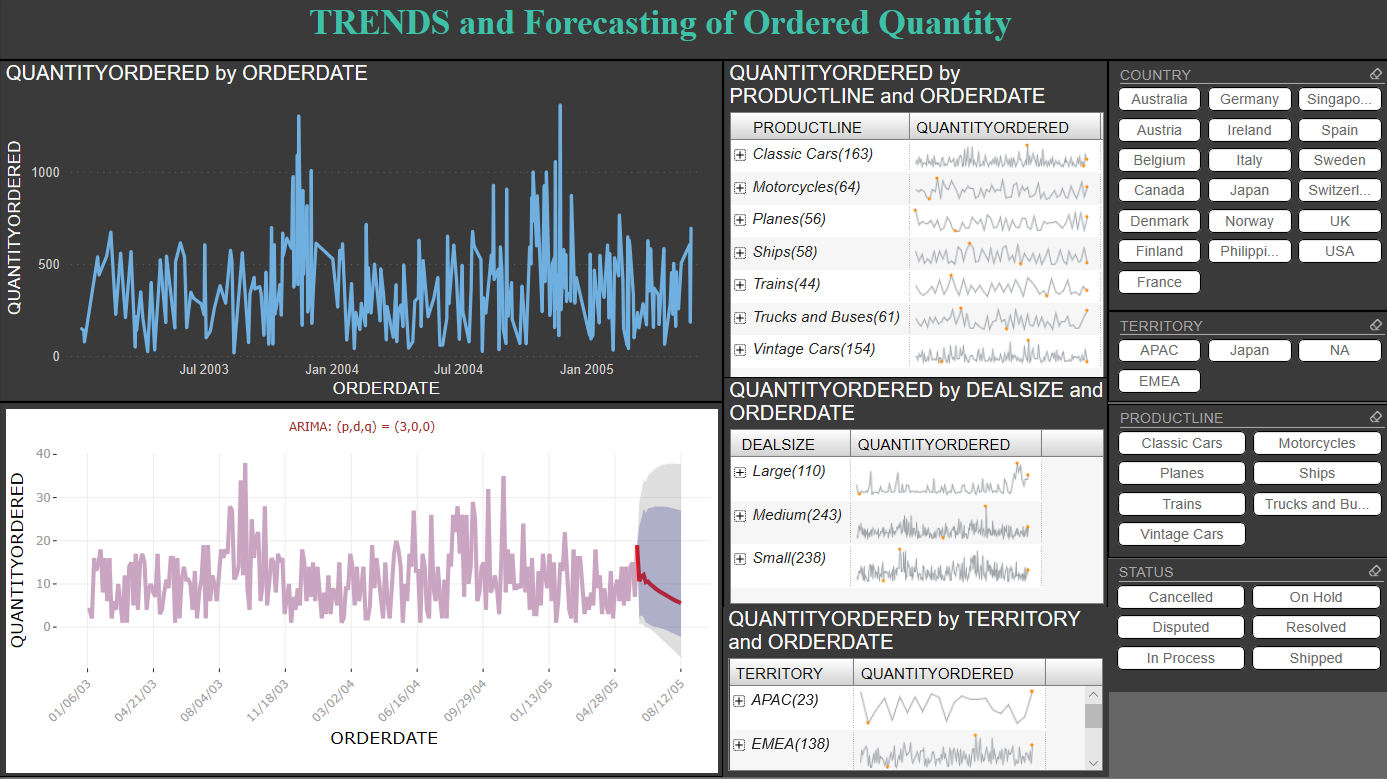

The page's visual inventory and layout, read from the dashboard file:
{"tool":"powerbi","page":{"name":"P3","canvas":[1280,720],"ordinal":2},"visuals":[{"type":"lineChart","fields":{"Y":["Sum(sales_data_sample (2).QUANTITYORDERED)"],"Category":["sales_data_sample (2).ORDERDATE"]},"box":[0,58.9,666,315.2],"z":0},{"type":"PBI_CV_AD348DC9_41C4_4867_B19O_53F9RDC6IEAS_HTML","fields":{"Date":["S2.ORDERDATE"],"Value":["CountNonNull(S2.QUANTITYORDERED)"]},"box":[0,374.1,666,345.4],"z":1000},{"type":"textbox","box":[0,0,1280,58.9],"z":2000},{"type":"vitarachartsMicrochart0A1B0D2B8A234CE5923234CD03573361","fields":{"category":["S2.PRODUCTLINE"],"measure":["Sum(S2.QUANTITYORDERED)"],"trendby":["S2.ORDERDATE"]},"box":[666,58.9,354.9,315.2],"z":3000},{"type":"vitarachartsMicrochart0A1B0D2B8A234CE5923234CD03573361","fields":{"category":["S2.DEALSIZE"],"trendby":["S2.ORDERDATE"],"measure":["Sum(S2.QUANTITYORDERED)"]},"box":[666,350.8,354.9,212.4],"z":4000},{"type":"vitarachartsMicrochart0A1B0D2B8A234CE5923234CD03573361","fields":{"category":["S2.TERRITORY"],"trendby":["S2.ORDERDATE"],"measure":["Sum(S2.QUANTITYORDERED)"]},"box":[666,563,355,156],"z":5000},{"type":"ChicletSlicer1448559807354","fields":{"Category":["S2.COUNTRY"]},"box":[1021,58.9,259,231.6],"z":6000},{"type":"ChicletSlicer1448559807354","fields":{"Category":["S2.TERRITORY"]},"box":[1021,290.5,259,83.6],"z":7000},{"type":"ChicletSlicer1448559807354","fields":{"Category":["S2.PRODUCTLINE"]},"box":[1021,375.5,259,142.5],"z":8000},{"type":"ChicletSlicer1448559807354","fields":{"Category":["S2.STATUS"]},"box":[1021,518,259,123.3],"z":9000}]}

Visuals, with their boxes in screenshot pixels (x1, y1, x2, y2), scaled from the page's 1280x720 canvas onto the 1387x779 screenshot:
lineChart - Sum(sales_data_sample (2).QUANTITYORDERED) x sales_data_sample (2).ORDERDATE: 0,64,722,405
PBI_CV_AD348DC9_41C4_4867_B19O_53F9RDC6IEAS_HTML - S2.ORDERDATE x CountNonNull(S2.QUANTITYORDERED): 0,405,722,778
textbox: 0,0,1386,64
vitarachartsMicrochart0A1B0D2B8A234CE5923234CD03573361 - S2.PRODUCTLINE x Sum(S2.QUANTITYORDERED): 722,64,1106,405
vitarachartsMicrochart0A1B0D2B8A234CE5923234CD03573361 - S2.DEALSIZE x S2.ORDERDATE: 722,380,1106,609
vitarachartsMicrochart0A1B0D2B8A234CE5923234CD03573361 - S2.TERRITORY x S2.ORDERDATE: 722,609,1106,778
ChicletSlicer1448559807354 - S2.COUNTRY: 1106,64,1386,314
ChicletSlicer1448559807354 - S2.TERRITORY: 1106,314,1386,405
ChicletSlicer1448559807354 - S2.PRODUCTLINE: 1106,406,1386,560
ChicletSlicer1448559807354 - S2.STATUS: 1106,560,1386,694
